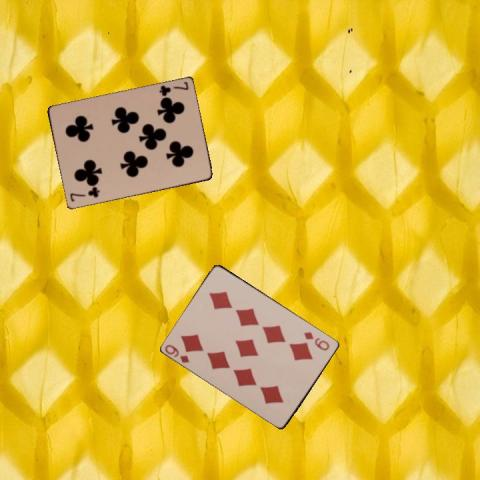7c: (156, 79, 189, 98), (66, 186, 100, 204)
9d: (301, 329, 331, 352), (162, 341, 191, 364)
